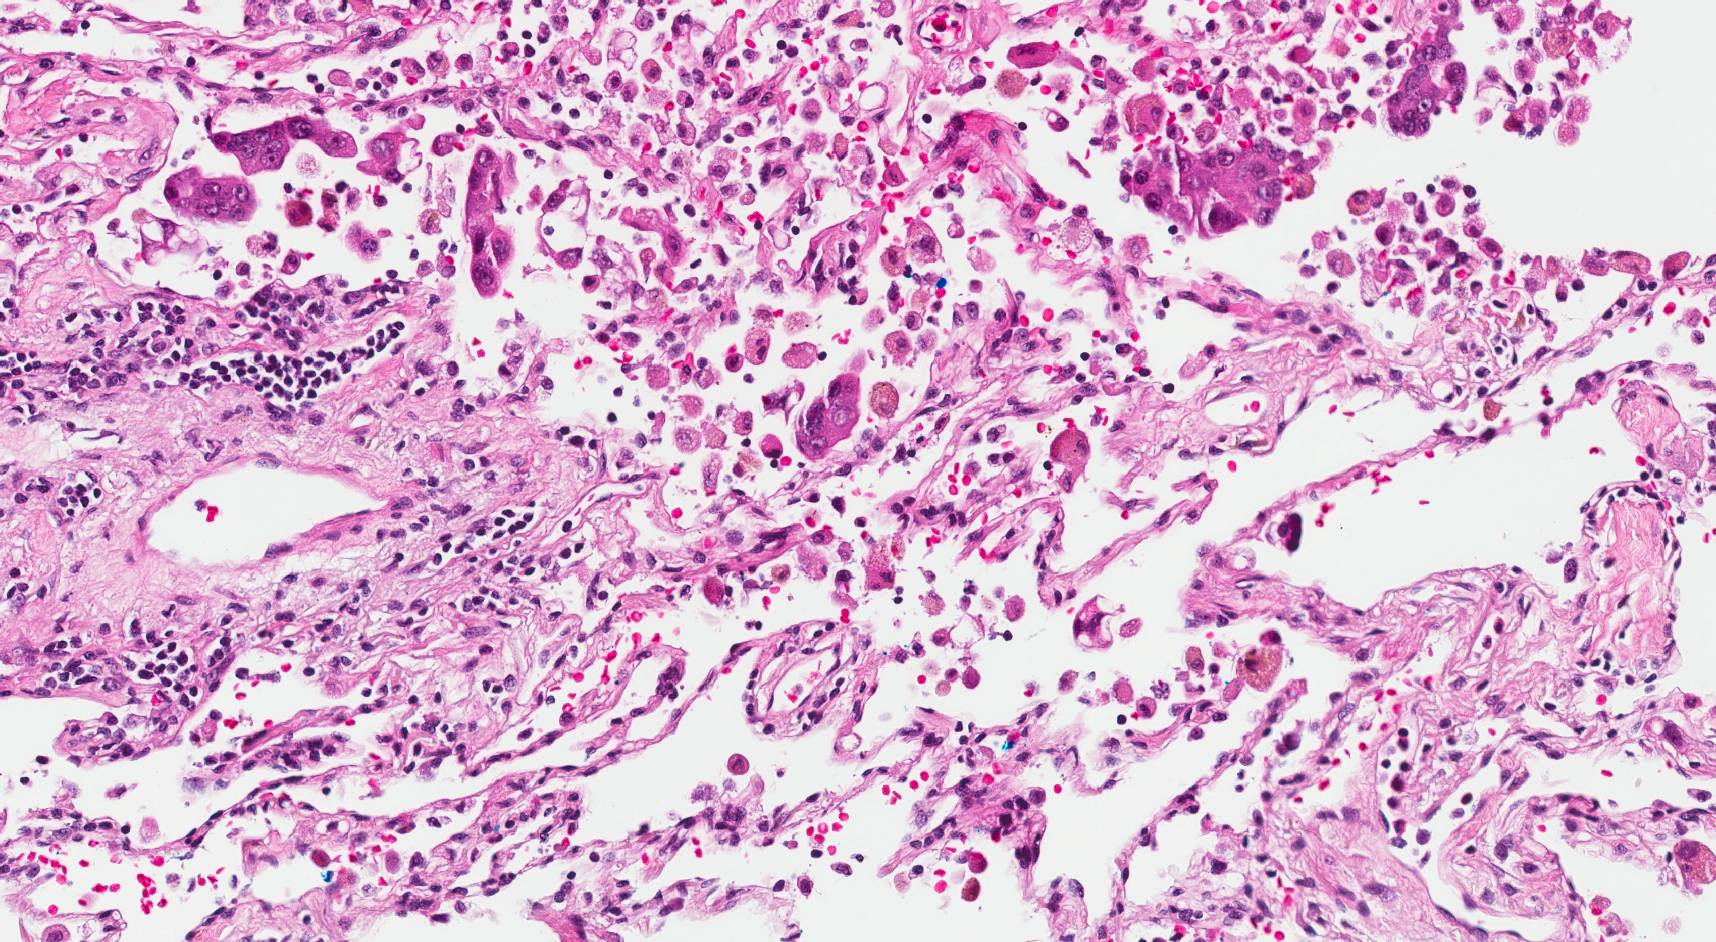stas: (1119, 133, 1290, 232), (209, 109, 358, 174), (1385, 22, 1467, 138), (460, 145, 520, 300), (794, 373, 864, 465), (535, 173, 593, 273), (165, 163, 258, 224), (355, 128, 427, 187)
